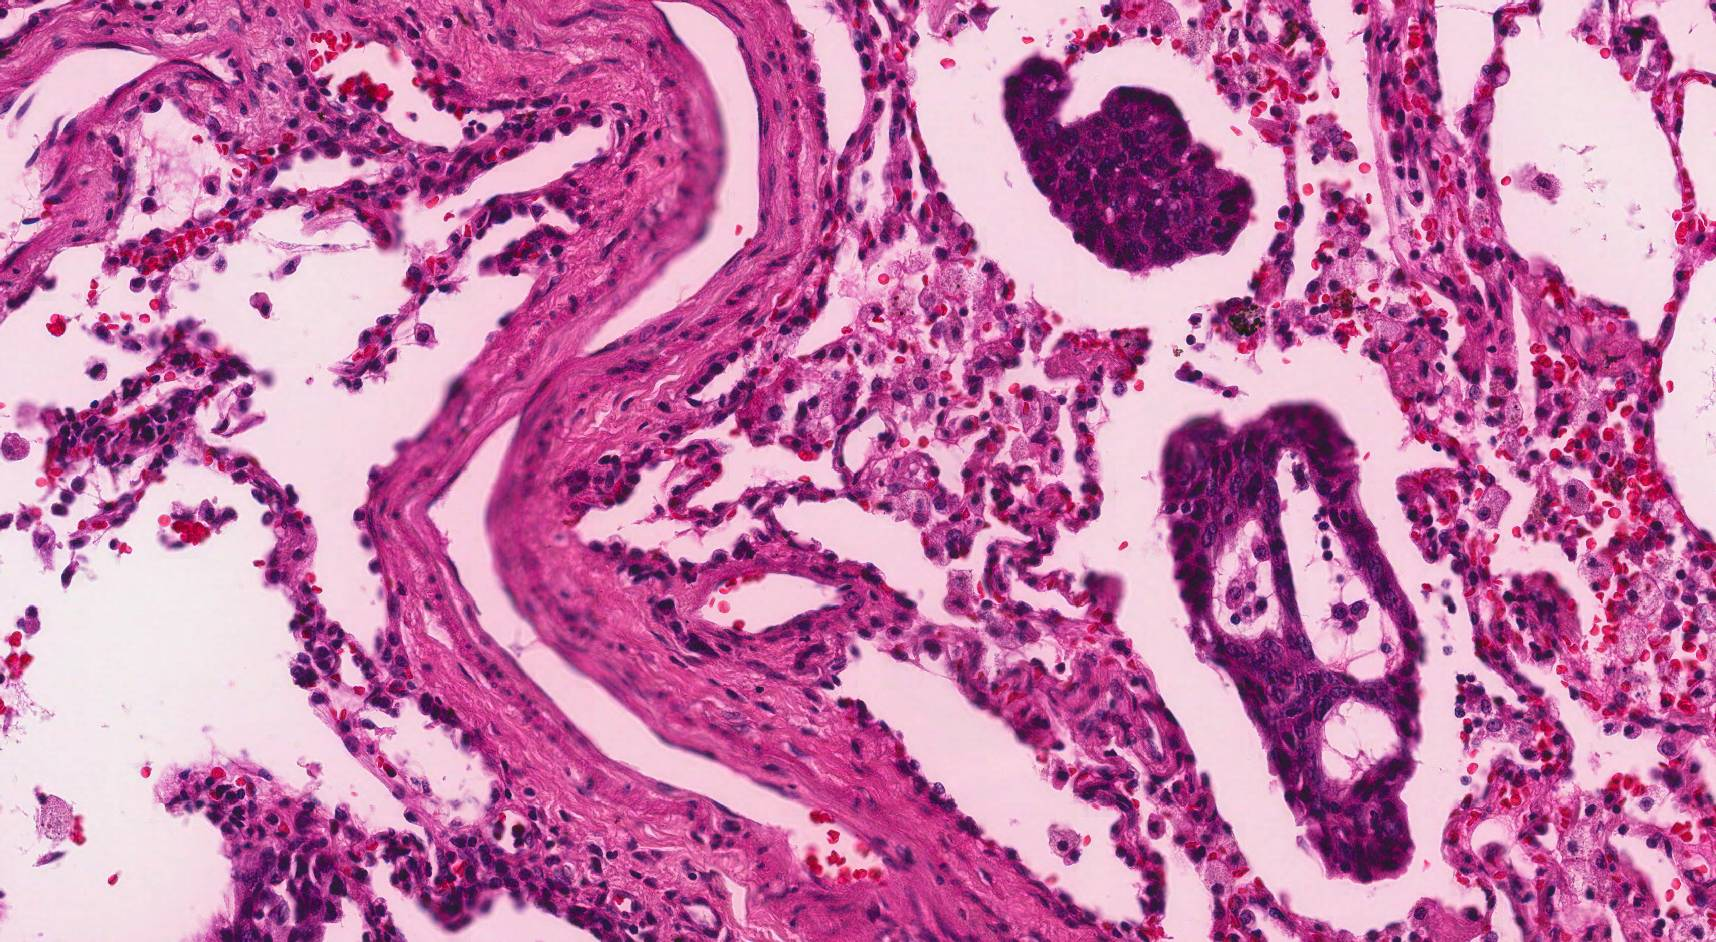stas: (1161, 399, 1430, 887), (996, 54, 1254, 274)
